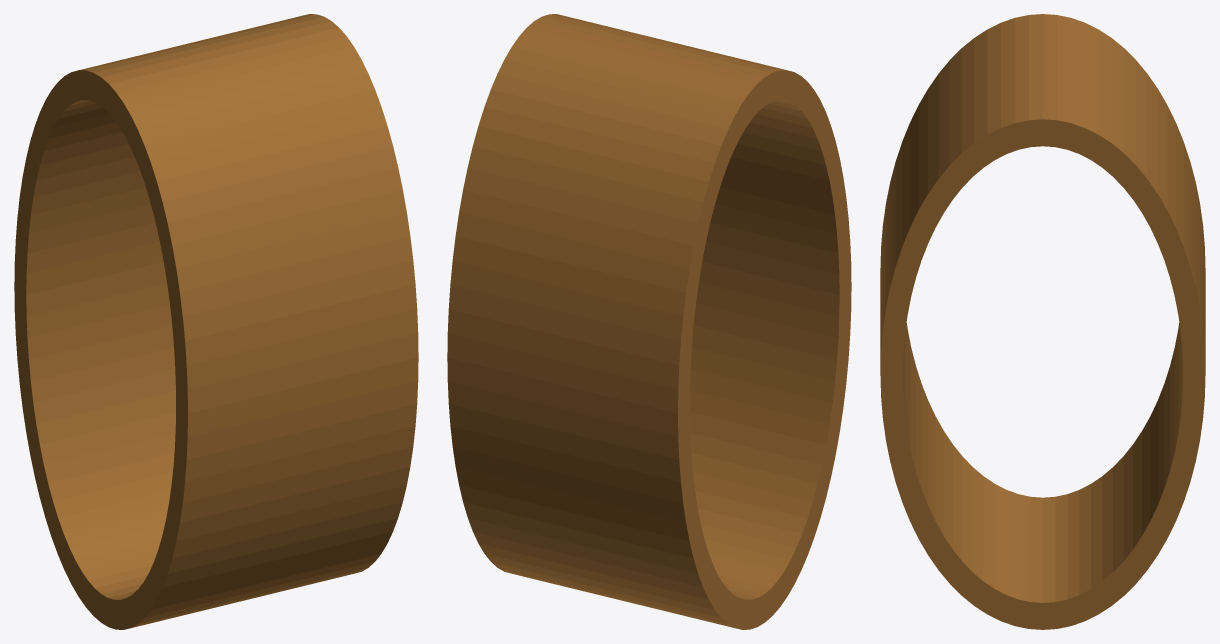
File: dranmar_tissue_seal_band.glb
3 views of the same model, side by side, from view 1: azimuth 30°, elevation 25°; view 2: azimuth 150°, elevation 25°; view 3: azimuth 270°, elevation 25° (orthographic). The views are drawn at different scales.
Parts seen in each view (by area): view 1: SealBand; view 2: SealBand; view 3: SealBand.
Boxes of the visible parts, left/top/right/bottom form: SealBand: left=14, top=14, right=418, bottom=629; SealBand: left=447, top=14, right=851, bottom=629; SealBand: left=880, top=14, right=1205, bottom=629.
Size of the model in its own units: 0.0046 by 0.0104 by 0.006.
